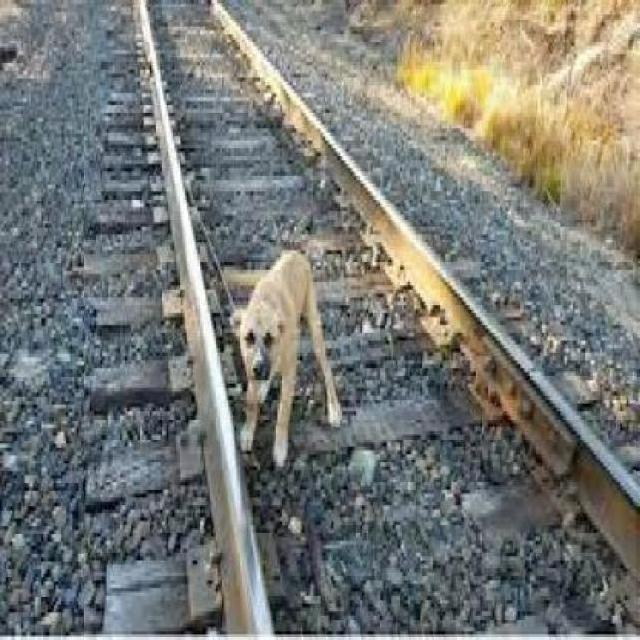rail: (85, 7, 637, 637)
